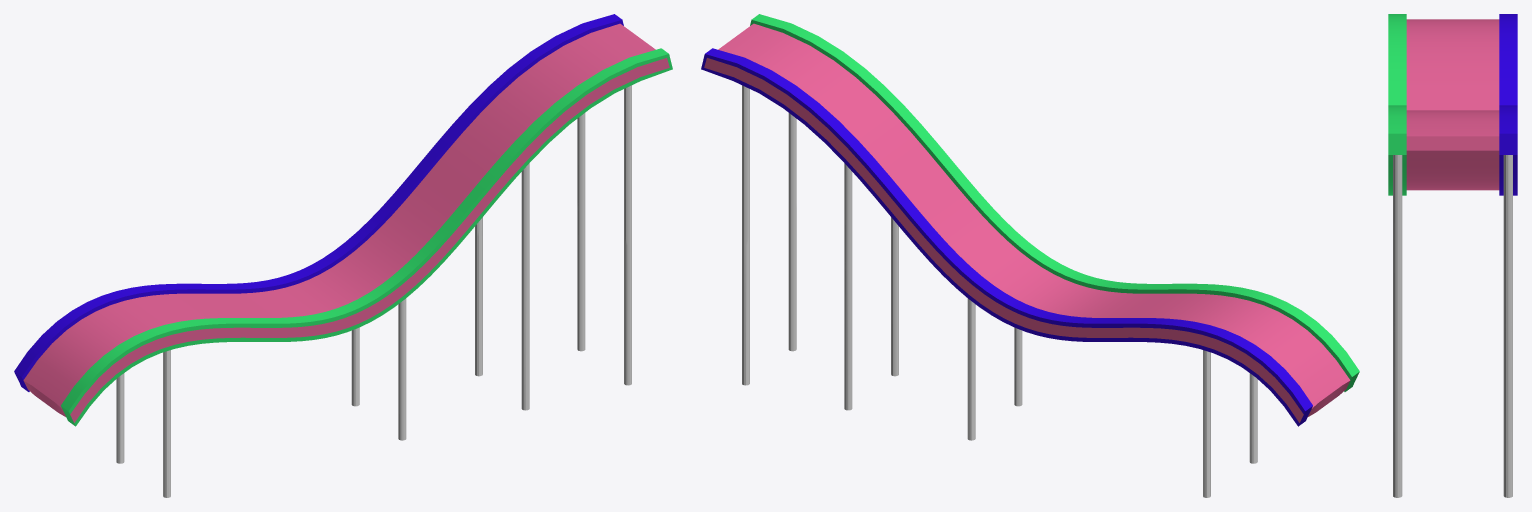
Rendered from slides.fbx.
3 renders of one model, left to right at view 1: azimuth 30°, elevation 25°; view 2: azimuth 150°, elevation 25°; view 3: azimuth 270°, elevation 25°, orthographic. The views are drawn at different scales.
Parts seen in each view (by area): view 1: NurbsPath; view 2: NurbsPath; view 3: NurbsPath.
Part boxes in pixels (left/top/right/bottom): NurbsPath: left=14, top=14, right=672, bottom=497; NurbsPath: left=701, top=14, right=1359, bottom=497; NurbsPath: left=1388, top=14, right=1517, bottom=497.
Bounding box in the file's own units: 197 × 101 × 30.7.
